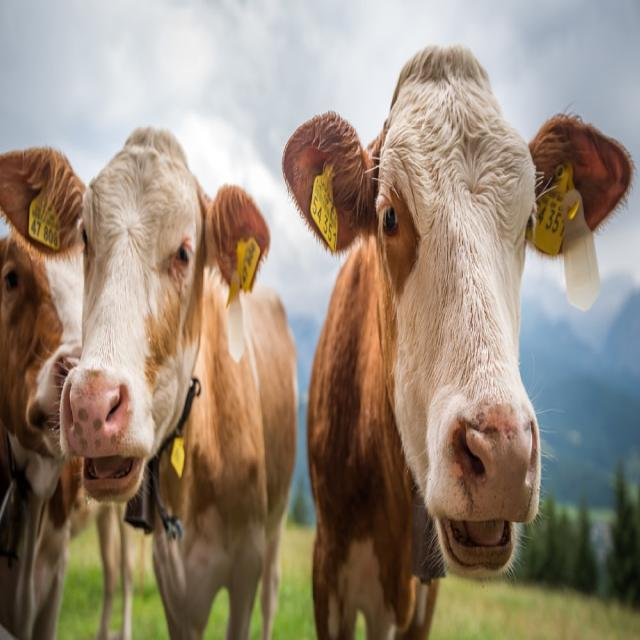cowFace: (278, 34, 636, 575), (4, 90, 271, 510)
